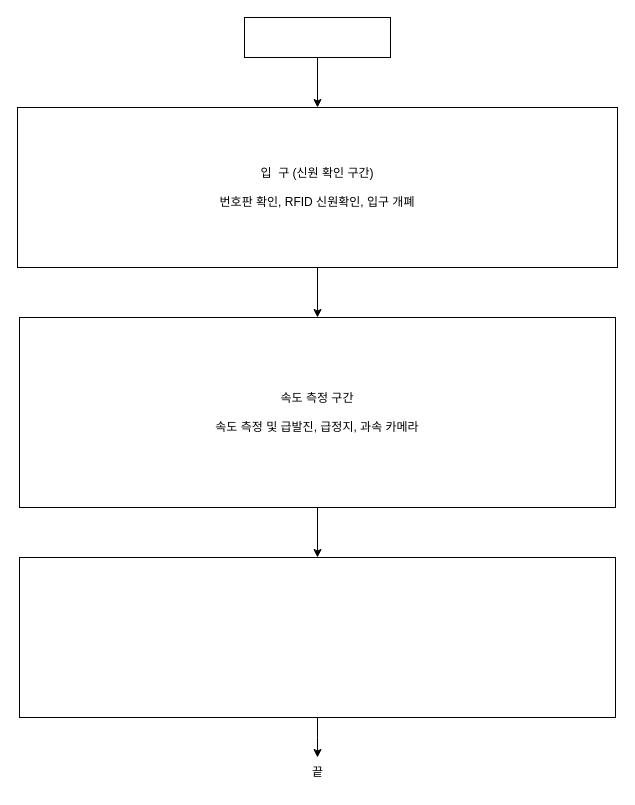
Some shapes in this 635 by 805 pixel diagram are drawn without their labels. The shapes that lost their labels are listed below. From the top down, each one's centre as x and y in pixels, then its label:
At (x=317, y=37): "차량 시작".
At (x=317, y=637): "차량 센서 및 지도 구간 TOF, 초음파 센서를 이용해 들어온 차량을 raylib로 표현".
